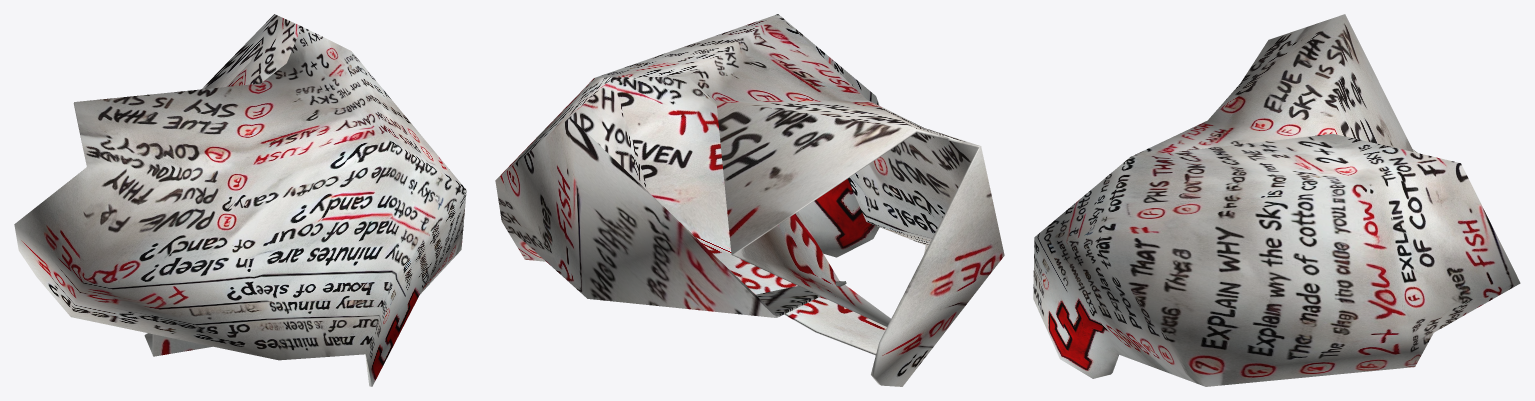
File: wad.glb
The picture shows the model from 3 angles, left to right: view 1: azimuth 30°, elevation 25°; view 2: azimuth 150°, elevation 25°; view 3: azimuth 270°, elevation 25°; orthographic projection. The views are drawn at different scales.
Parts seen in each view (by area): view 1: Plane; view 2: Plane; view 3: Plane.
Part boxes in pixels (x1,y1,x2,y2): Plane: (14, 14, 466, 386); Plane: (495, 14, 1004, 386); Plane: (1033, 14, 1520, 386).
Bounding box in the file's own units: 2 × 1.21 × 2.01.
1 material, 1 textured.
